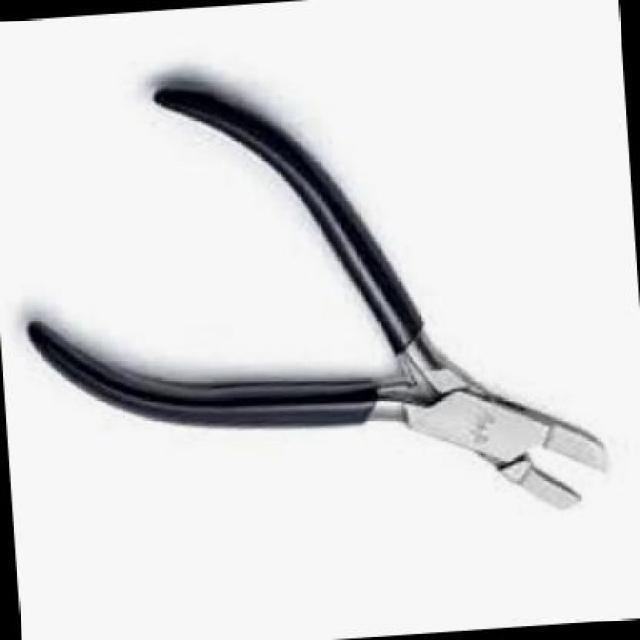pliers: (2, 31, 616, 564)
